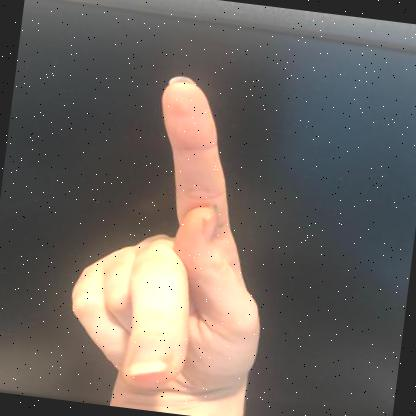P: (71, 76, 259, 416)
